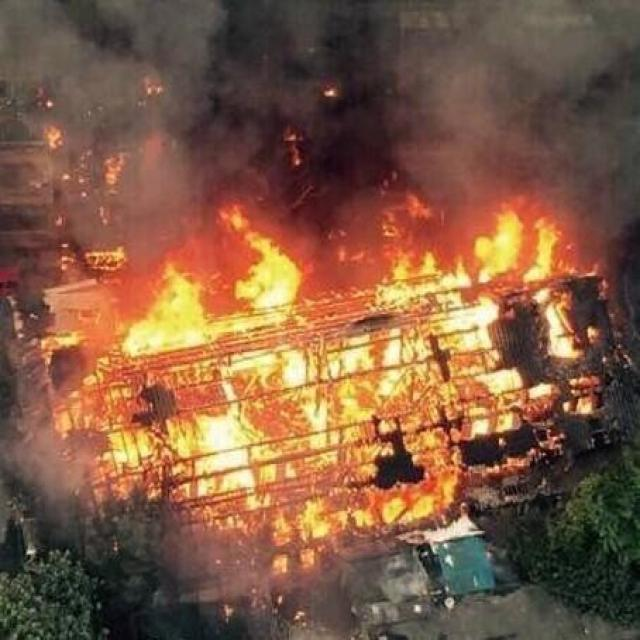Fire: (38, 150, 610, 575)
Smoke: (1, 2, 640, 256)
